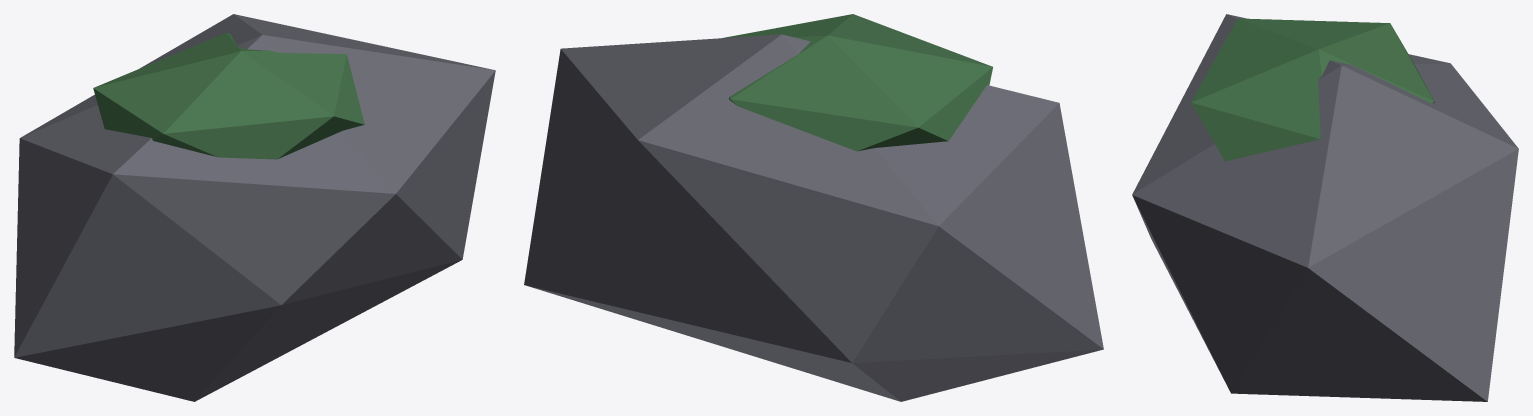
File: mossy_rock.glb
3 views of the same model, side by side, from view 1: azimuth 30°, elevation 25°; view 2: azimuth 150°, elevation 25°; view 3: azimuth 270°, elevation 25° (orthographic). The views are drawn at different scales.
Visible parts, largest first — view 1: mossy_rock; view 2: mossy_rock; view 3: mossy_rock.
Part boxes in pixels (bbox=[...]): mossy_rock: bbox=[14, 14, 495, 401]; mossy_rock: bbox=[524, 14, 1103, 401]; mossy_rock: bbox=[1132, 14, 1518, 401].
Bounding box in the file's own units: 2.19 × 1.41 × 1.36.
